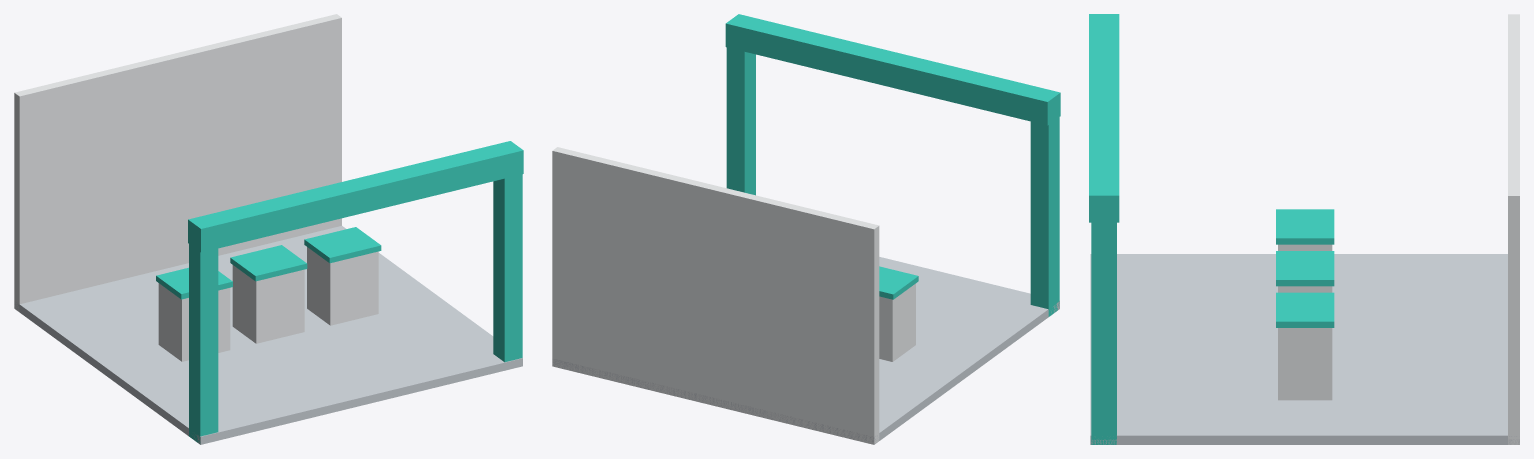
The picture shows the model from 3 angles, left to right: view 1: azimuth 30°, elevation 25°; view 2: azimuth 150°, elevation 25°; view 3: azimuth 270°, elevation 25°; orthographic projection. The views are drawn at different scales.
Parts seen in each view (by area): view 1: Exhibition Booth Concept; view 2: Exhibition Booth Concept; view 3: Exhibition Booth Concept.
Boxes of the visible parts, x1,y1,x2,y2 form: Exhibition Booth Concept: [14, 14, 523, 444]; Exhibition Booth Concept: [552, 14, 1060, 444]; Exhibition Booth Concept: [1089, 14, 1519, 444].
Size of the model in its own units: 5 by 3.2 by 5.02.
